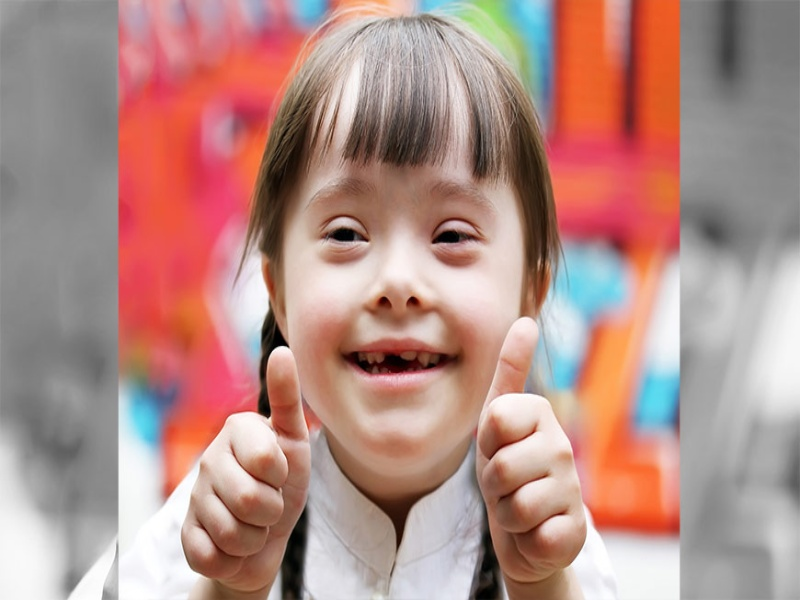person: (90, 32, 581, 572)
